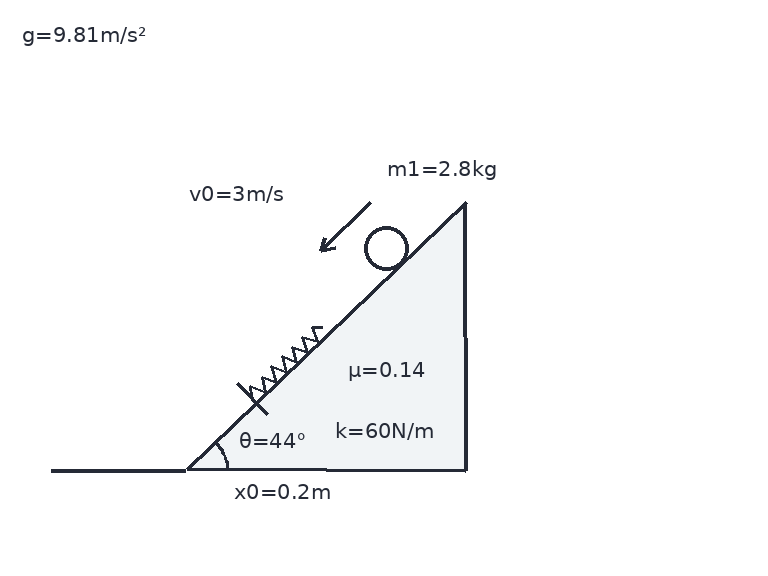ball: (362, 224, 410, 272)
ramp: (185, 200, 467, 472)
spring: (248, 325, 324, 398)
